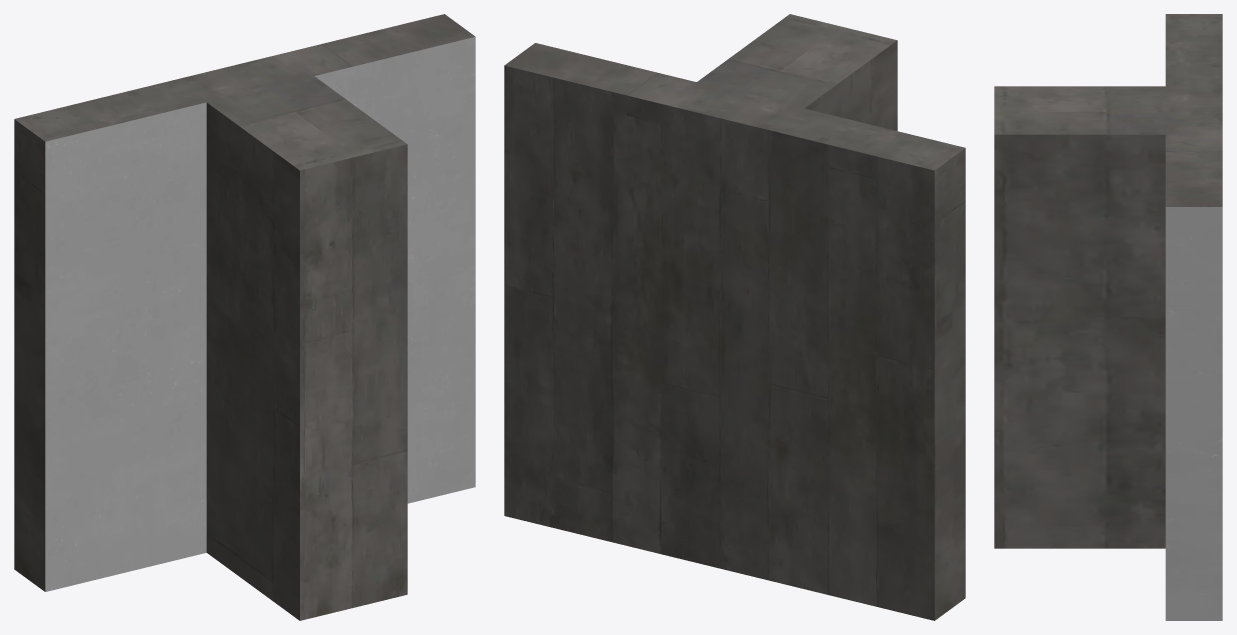
File: center_wall_100cm_001.glb
The picture shows the model from 3 angles, left to right: view 1: azimuth 30°, elevation 25°; view 2: azimuth 150°, elevation 25°; view 3: azimuth 270°, elevation 25°; orthographic projection. The views are drawn at different scales.
Visible parts, largest first — view 1: center.wall.100cm.001; view 2: center.wall.100cm.001; view 3: center.wall.100cm.001.
Boxes of the visible parts, left/top/right/bottom form: center.wall.100cm.001: left=14, top=14, right=475, bottom=620; center.wall.100cm.001: left=504, top=14, right=965, bottom=620; center.wall.100cm.001: left=994, top=14, right=1222, bottom=620.
Size of the model in its own units: 1 by 1 by 0.5.
2 materials, 2 textured.
